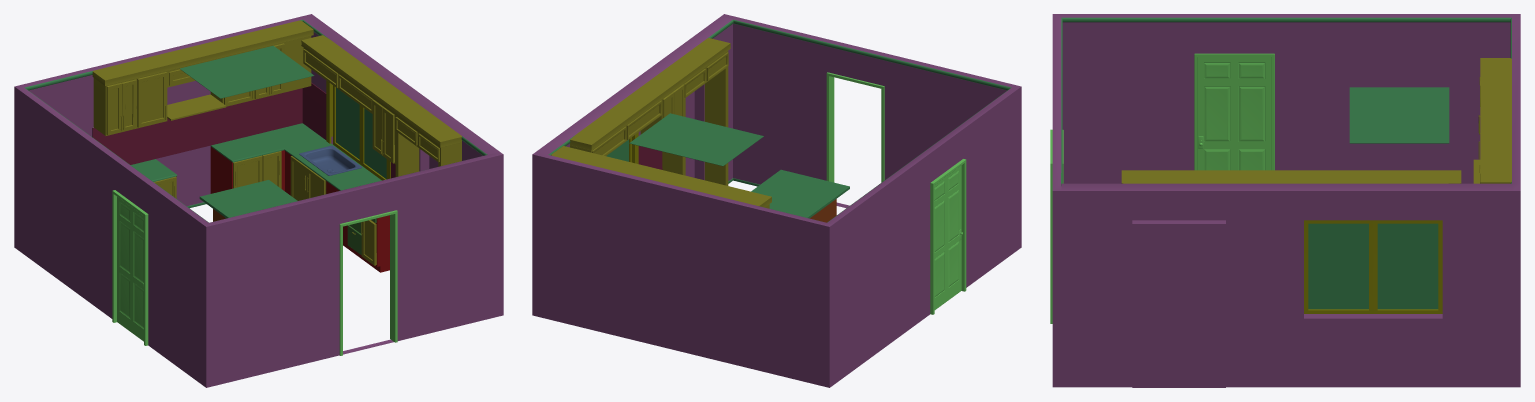
File: FloorPlan1.fbx
The picture shows the model from 3 angles, left to right: view 1: azimuth 30°, elevation 25°; view 2: azimuth 150°, elevation 25°; view 3: azimuth 270°, elevation 25°; orthographic projection. The views are drawn at different scales.
Parts seen in each view (by area): view 1: StandardWallSize, UpperCabinets, StandardWallTileHeight1, StandardCounterHeightWidth, WindowGlass (2), StandardDoor1 (2), StandardIslandHeight2, WindowGlass, StandardDoorFrame1, CabinetDoorBase2 (7), StandardDoorFrame1 (2), StandardSinkSize1 (2) (+11 smaller); view 2: StandardWallSize, UpperCabinets, WindowGlass (2), StandardDoor1 (2), StandardIslandHeight2, StandardDoorFrame1 (2), StandardDoorFrame1, StandardWallTileHeight1; view 3: StandardWallSize, WindowGlass, UpperCabinets, StandardDoor1 (2), WindowGlass (2), StandardWindow1 (3), StandardWindow1 (3) (2), StandardDoorFrame1 (2), StandardDoorFrame1.
Part boxes in pixels (box(x1,y1,x2,y2)): StandardWallSize: box(14, 14, 503, 387); UpperCabinets: box(92, 20, 461, 176); StandardWallTileHeight1: box(92, 82, 395, 178); StandardCounterHeightWidth: box(131, 123, 389, 272); WindowGlass (2): box(180, 45, 314, 98); StandardDoor1 (2): box(117, 197, 143, 341); StandardIslandHeight2: box(199, 180, 297, 221); WindowGlass: box(336, 87, 386, 178); StandardDoorFrame1: box(339, 210, 397, 355); CabinetDoorBase2 (7): box(137, 72, 167, 127); StandardDoorFrame1 (2): box(112, 190, 148, 345); StandardSinkSize1 (2): box(299, 145, 361, 175); StandardWallSize: box(532, 14, 1021, 387); UpperCabinets: box(551, 38, 771, 208); WindowGlass (2): box(629, 113, 763, 166); StandardDoor1 (2): box(934, 165, 961, 309); StandardIslandHeight2: box(751, 169, 849, 222); StandardDoorFrame1 (2): box(930, 159, 966, 314); StandardDoorFrame1: box(826, 72, 884, 182); StandardWallTileHeight1: box(638, 146, 662, 169); StandardWallSize: box(1052, 14, 1520, 387); WindowGlass: box(1308, 223, 1438, 309); UpperCabinets: box(1121, 58, 1511, 183); StandardDoor1 (2): box(1197, 57, 1271, 170); WindowGlass (2): box(1349, 87, 1449, 143); StandardWindow1 (3): box(1304, 220, 1373, 313); StandardWindow1 (3) (2): box(1373, 220, 1442, 313); StandardDoorFrame1 (2): box(1194, 53, 1274, 170); StandardDoorFrame1: box(1050, 129, 1063, 323).
Size of the model in its own units: 498 by 297 by 543.
